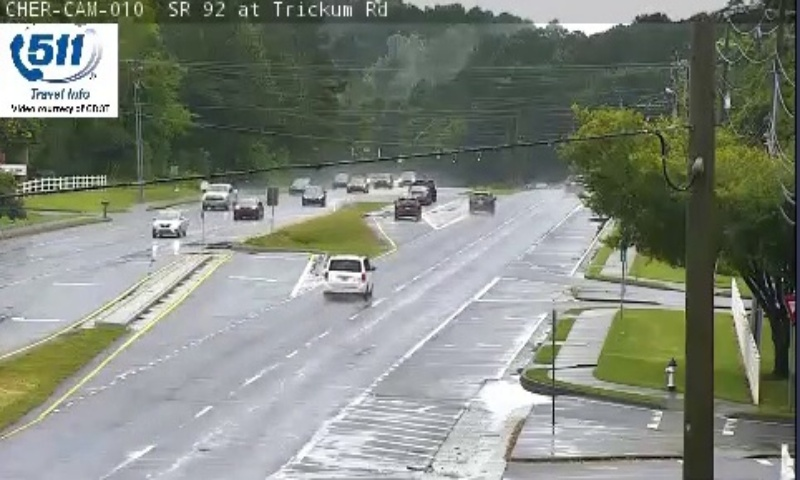car: (321, 256, 373, 295), (393, 196, 421, 221), (468, 191, 496, 211)
